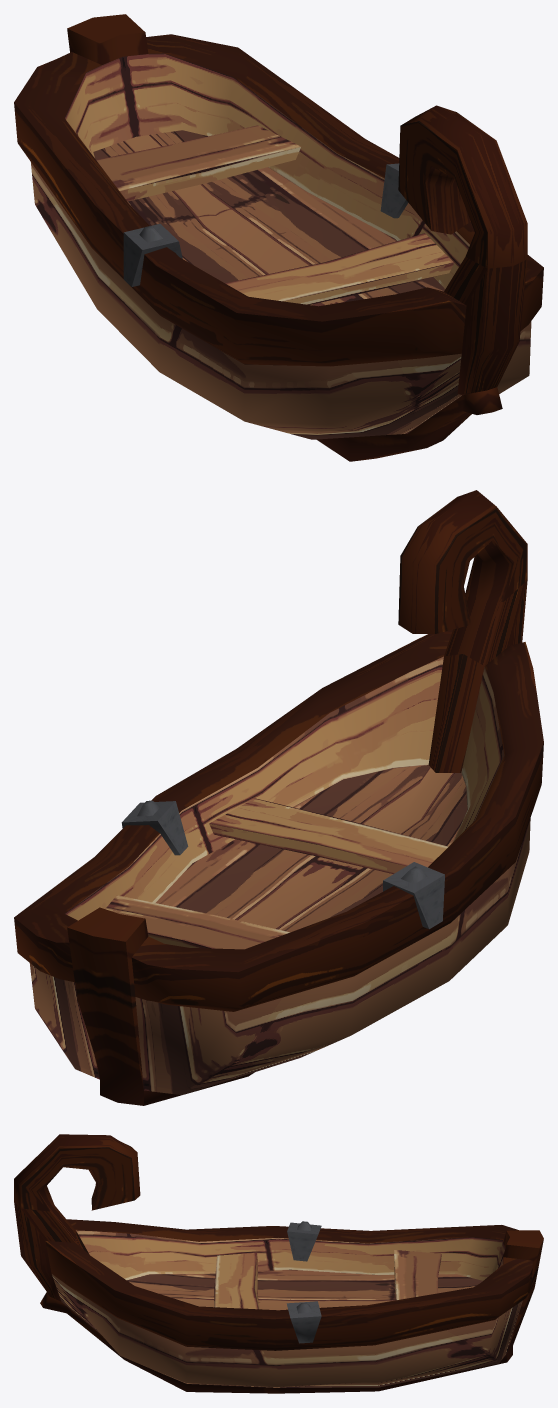
File: barque-3 (source).glb
The picture shows the model from 3 angles, top to bottom: view 1: azimuth 30°, elevation 25°; view 2: azimuth 150°, elevation 25°; view 3: azimuth 270°, elevation 25°; orthographic projection. The views are drawn at different scales.
Visible parts, largest first — view 1: SM_PROP_rowboat; view 2: SM_PROP_rowboat; view 3: SM_PROP_rowboat.
Part boxes in pixels (box(x1,y1,x2,y2)): SM_PROP_rowboat: box(14, 14, 543, 461); SM_PROP_rowboat: box(14, 490, 543, 1105); SM_PROP_rowboat: box(14, 1134, 543, 1393).
Bounding box in the file's own units: 1.73 × 2.13 × 4.06.
3 materials, 3 textured.
